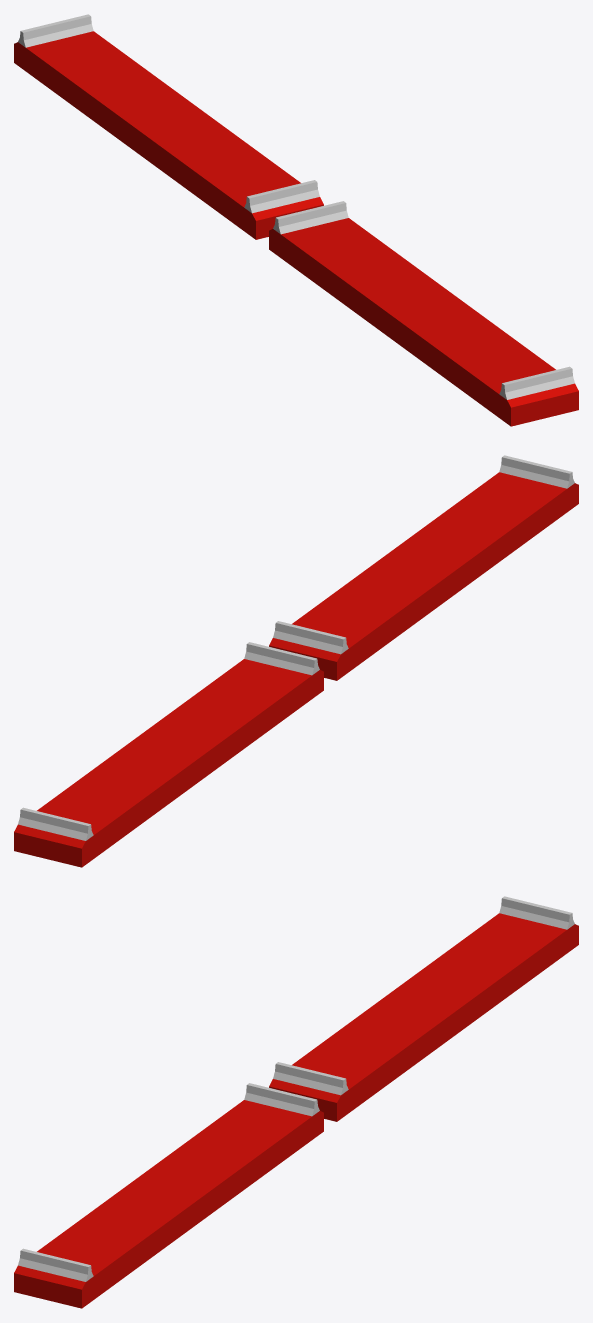
The model's file is SM_Road_Highway.fbx.
3 views of the same model, one above another, from view 1: azimuth 30°, elevation 25°; view 2: azimuth 150°, elevation 25°; view 3: azimuth 330°, elevation 25° (orthographic).
Visible parts, largest first — view 1: Highway; view 2: Highway; view 3: Highway.
Part boxes in pixels (bbox=[...]): Highway: bbox=[14, 14, 578, 426]; Highway: bbox=[14, 455, 578, 867]; Highway: bbox=[14, 896, 578, 1308].
Bounding box in the file's own units: 600 × 310 × 7600.
